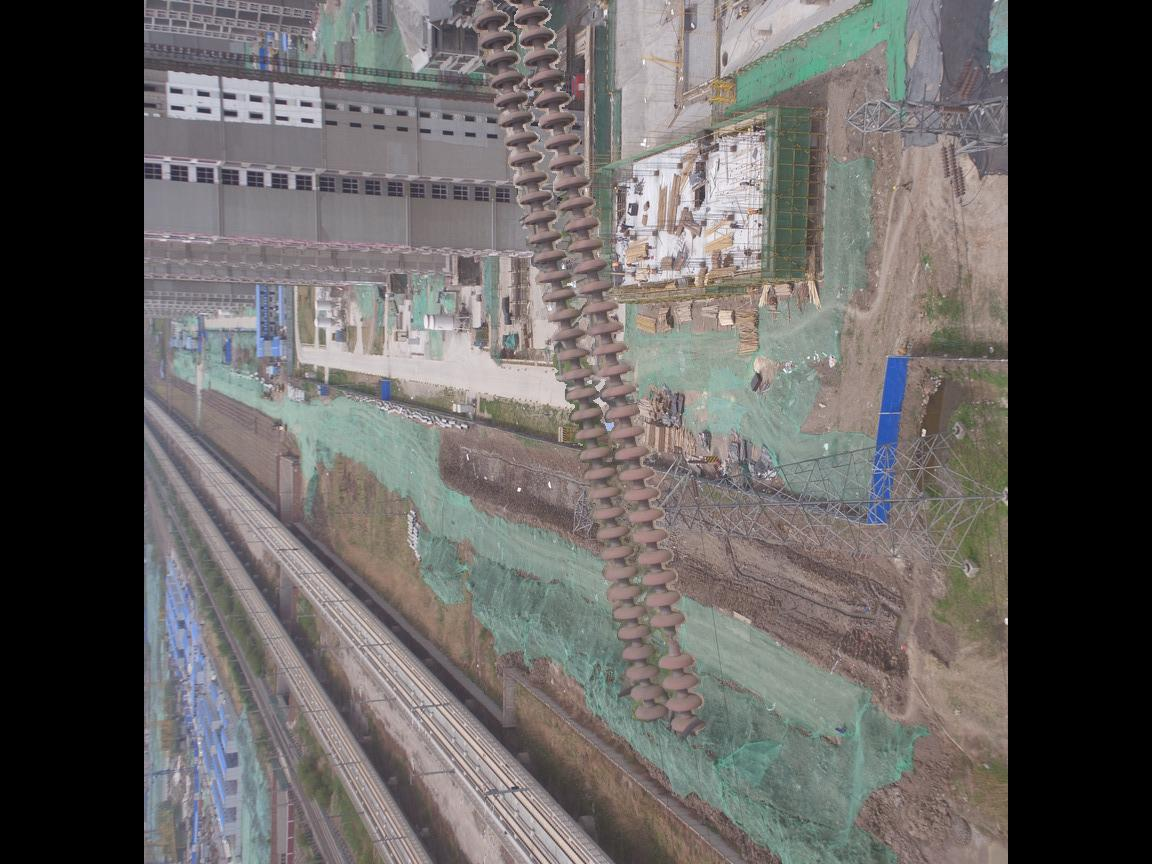insulator: (465, 1, 711, 740)
insulator_stringdrop: (649, 609, 700, 673)
